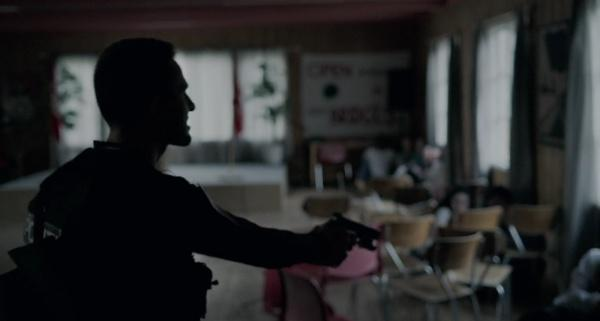Gun: (330, 211, 381, 251)
